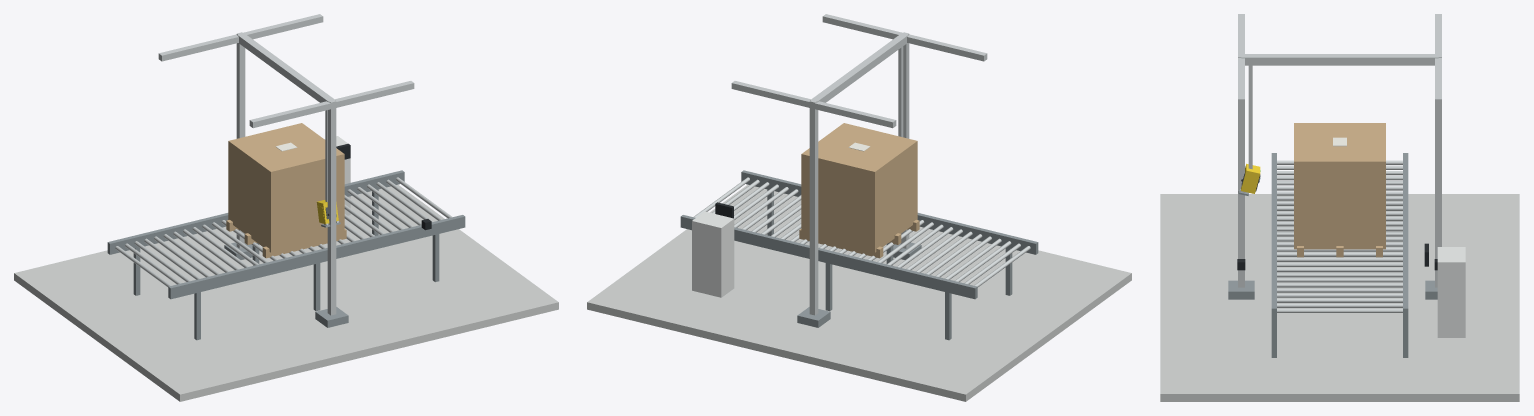
The picture shows the model from 3 angles, left to right: view 1: azimuth 30°, elevation 25°; view 2: azimuth 150°, elevation 25°; view 3: azimuth 270°, elevation 25°; orthographic projection. The views are drawn at different scales.
Parts seen in each view (by area): view 1: Floor, Pallet load, Conveyor side rail, Extrusion upright, Conveyor side rail.001, Longitudinal top frame, Longitudinal top frame.001, Overhead crossbeam, Extrusion upright.001; view 2: Floor, Pallet load, Conveyor side rail.001, Control cabinet, Extrusion upright.001, Conveyor side rail, Longitudinal top frame.001, Longitudinal top frame, Overhead crossbeam, Extrusion upright, Suspended sensor mount; view 3: Floor, Pallet load, Control cabinet, Overhead crossbeam, Extrusion upright, Extrusion upright.001, Conveyor side rail, Conveyor side rail.001, Conveyor roller.019, Conveyor roller.020, Conveyor roller.021, Conveyor roller.022 (+14 smaller).
Part boxes in pixels (x1,y1,x2,y2): Floor: [14, 184, 558, 401]; Pallet load: [228, 123, 344, 252]; Conveyor side rail: [168, 215, 465, 299]; Extrusion upright: [327, 100, 336, 315]; Conveyor side rail.001: [107, 170, 404, 254]; Longitudinal top frame: [249, 81, 414, 128]; Longitudinal top frame.001: [158, 14, 323, 61]; Overhead crossbeam: [237, 33, 335, 102]; Extrusion upright.001: [236, 32, 245, 248]; Floor: [587, 184, 1131, 401]; Pallet load: [801, 123, 917, 252]; Conveyor side rail.001: [680, 215, 977, 299]; Control cabinet: [692, 211, 734, 297]; Extrusion upright.001: [809, 99, 818, 315]; Conveyor side rail: [741, 170, 1038, 254]; Longitudinal top frame.001: [731, 81, 896, 128]; Longitudinal top frame: [822, 14, 987, 61]; Overhead crossbeam: [810, 33, 908, 102]; Extrusion upright: [900, 32, 909, 248]; Suspended sensor mount: [898, 46, 903, 137]; Floor: [1160, 194, 1519, 401]; Pallet load: [1294, 123, 1385, 249]; Control cabinet: [1437, 247, 1465, 337]; Overhead crossbeam: [1241, 54, 1438, 65]; Extrusion upright: [1238, 54, 1244, 287]; Extrusion upright.001: [1435, 54, 1441, 287]; Conveyor side rail: [1271, 153, 1276, 320]; Conveyor side rail.001: [1403, 153, 1408, 320]; Conveyor roller.019: [1277, 257, 1402, 261]; Conveyor roller.020: [1277, 262, 1402, 266]; Conveyor roller.021: [1277, 268, 1402, 272]; Conveyor roller.022: [1277, 273, 1402, 277].
Bounding box in the file's own units: 5.4 × 3.1 × 4.1.
